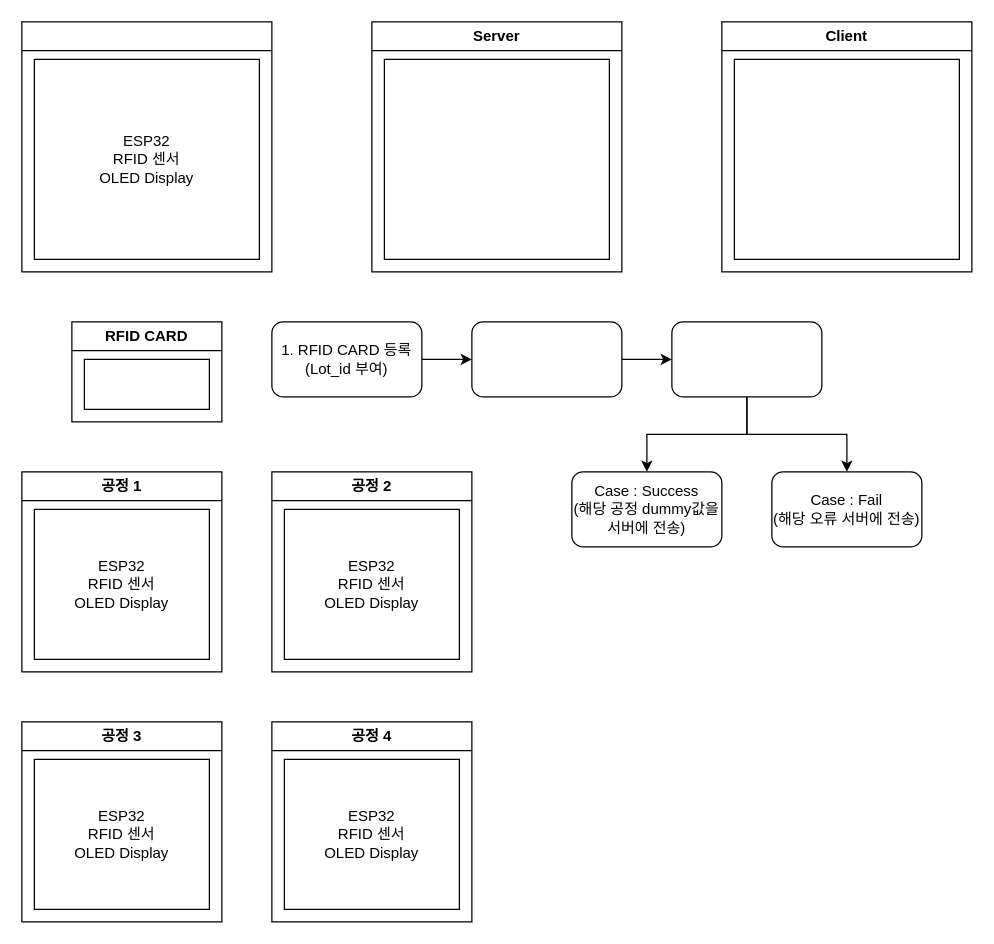
Some shapes in this 994 by 944 pixel diagram are drawn without their labels. The shapes that lost their labels are listed below. From the top down, each one's box as (x1, y1, x2, y2) in pixels, then its label:
(21, 21, 272, 272): Lot_id 등록 스테이션
(383, 58, 609, 259): MSA
(733, 58, 959, 259): web app Window
(471, 321, 622, 397): 2. 공정에 태깅
(671, 321, 822, 397): 3. 결과 확인 (OLED, 대시보드)
(83, 358, 209, 409): Lot_id
